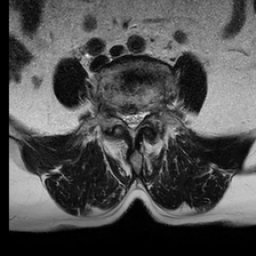CCS_normal: (129, 105, 135, 139)
LFS_stenosis: (143, 101, 151, 122)
LLS_normal: (135, 105, 143, 132)
RFS_stenosis: (114, 100, 121, 124)
RLS_normal: (121, 104, 129, 131)
